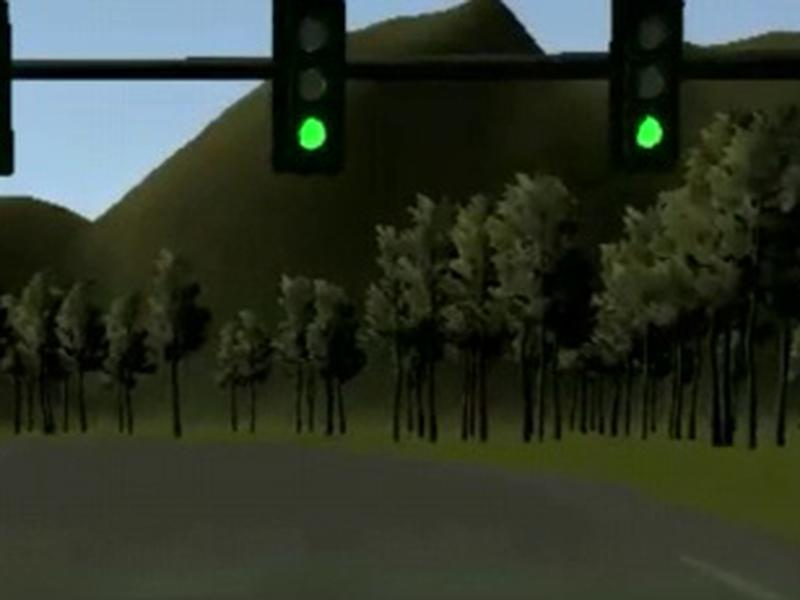Green: (270, 1, 346, 176), (608, 1, 684, 173)
